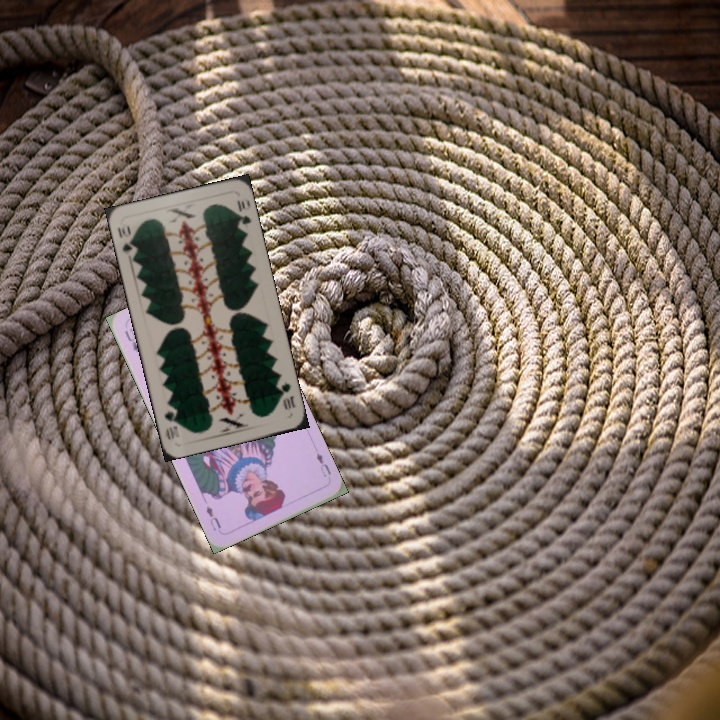EU: (312, 449, 334, 480), (120, 324, 142, 355)
G10: (273, 376, 299, 413), (113, 219, 137, 254)
